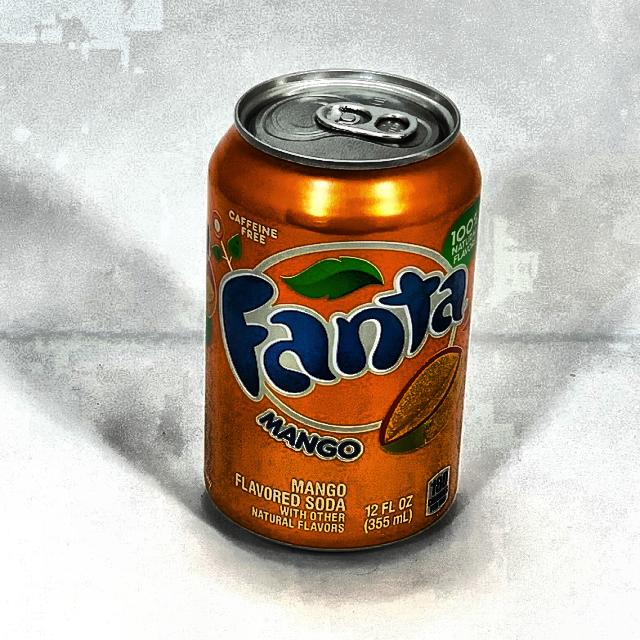Cans: (208, 77, 476, 569)
